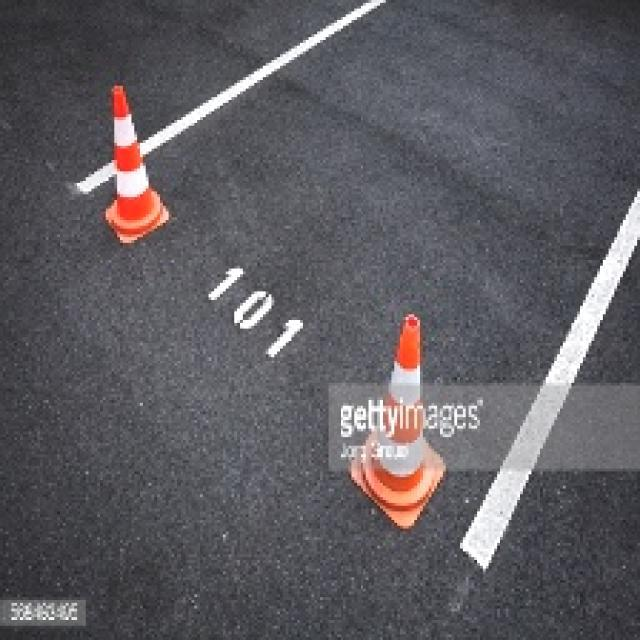traffic cone: (104, 81, 171, 246), (389, 313, 423, 387)
